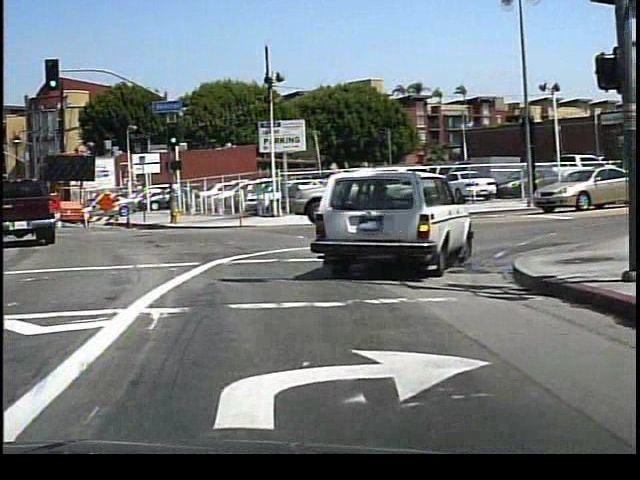person: (520, 162, 540, 206)
